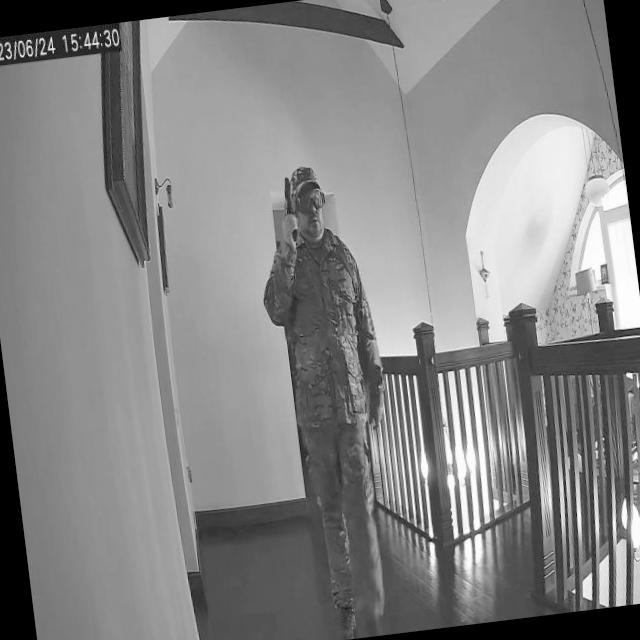gun: (279, 175, 302, 248)
person with a gun: (249, 155, 414, 640)
